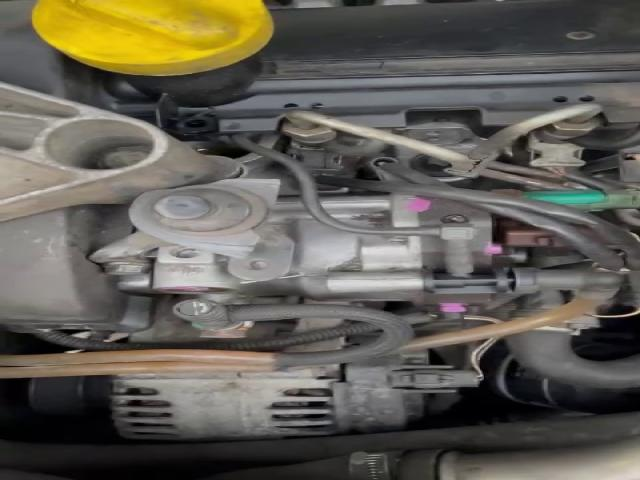alternator: (110, 365, 340, 440)
high_pressure_pump: (148, 195, 497, 303)
